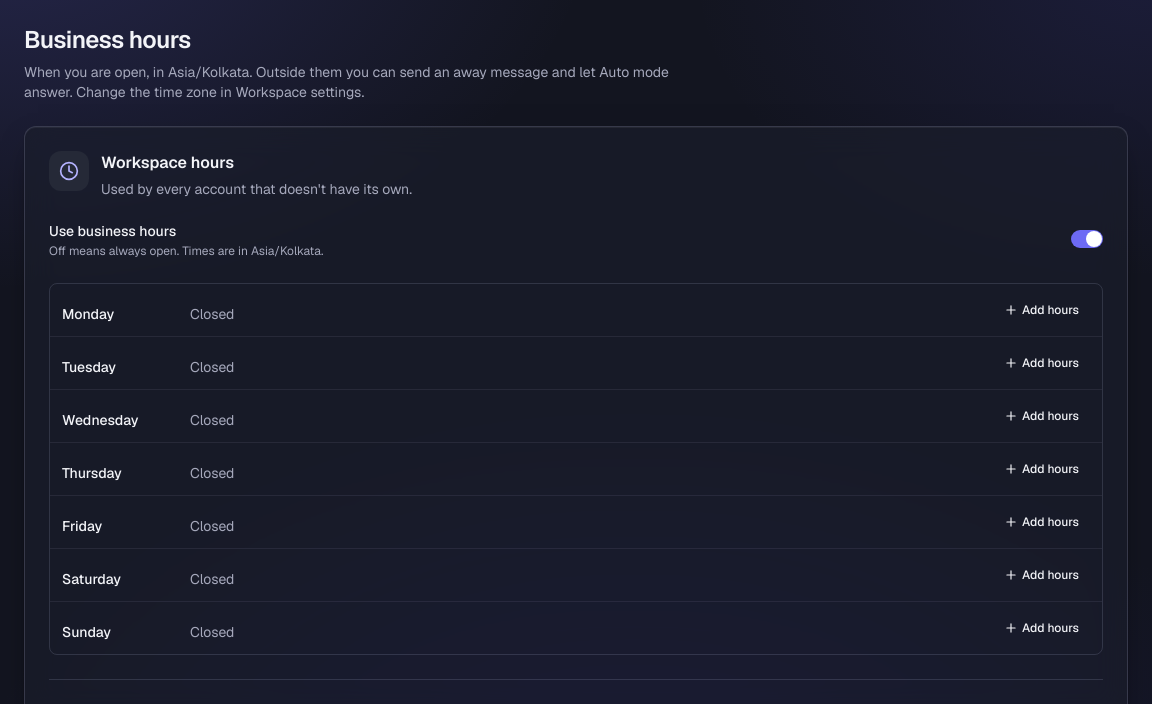
BusinessHoursPage (GR-22) › will not save hours that are on with nothing open
Click the switch named "Use business hours" in the row of "Off means always open. Times are in": (1087, 239) [1071,230,1103,248]
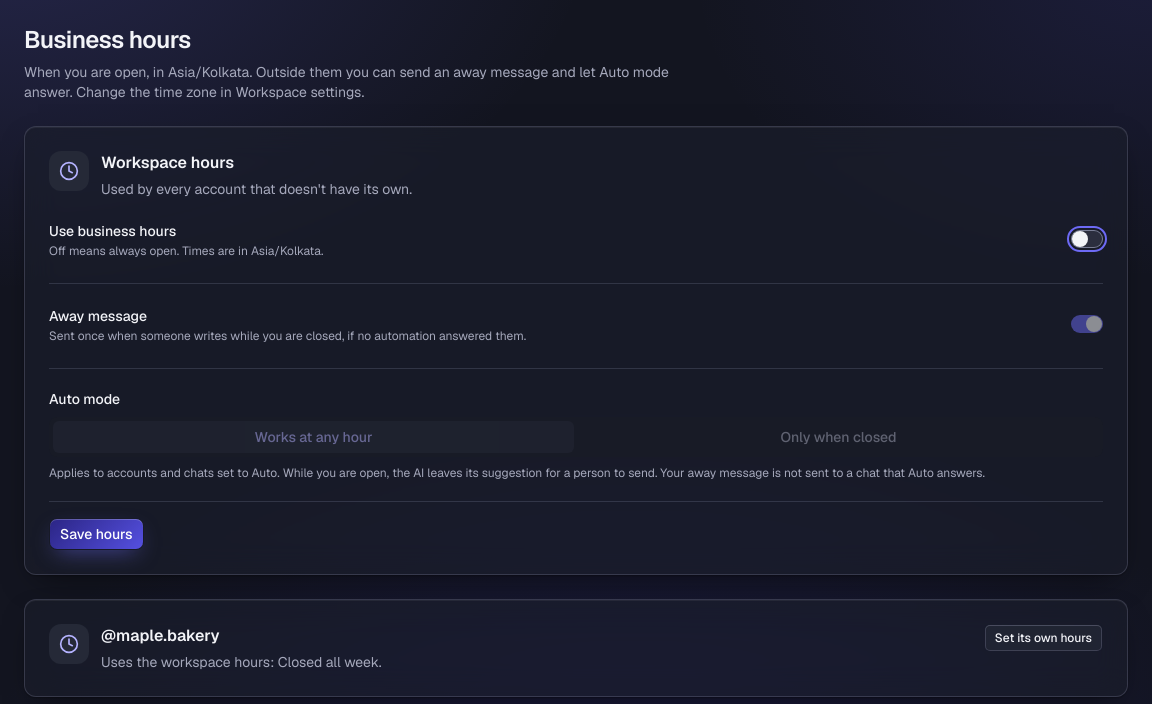
expect the button "Save hours" is enabled: met, box [49,518,144,550]
